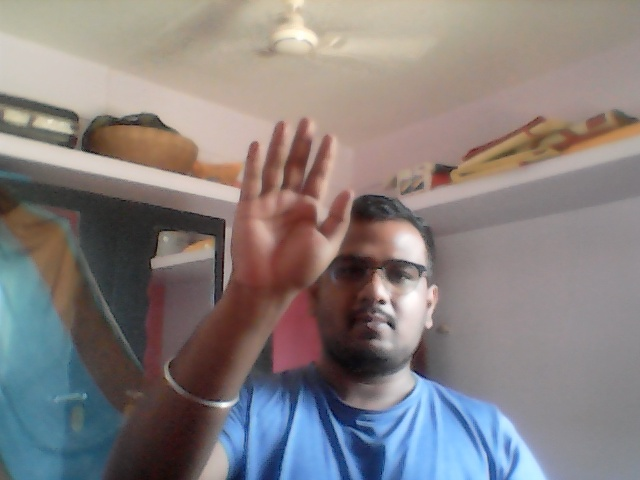Hello: (227, 114, 358, 293)
